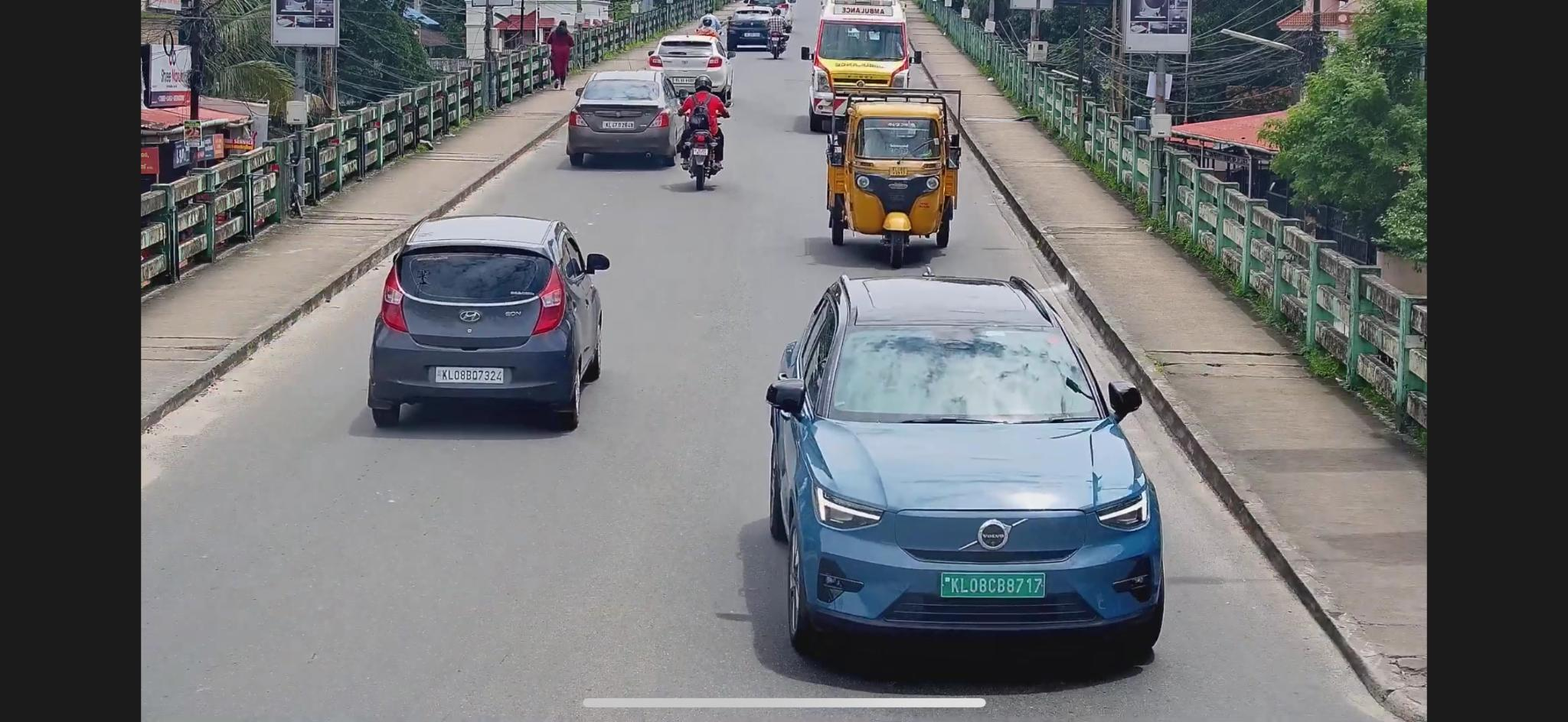ambulance: (809, 1, 911, 131)
